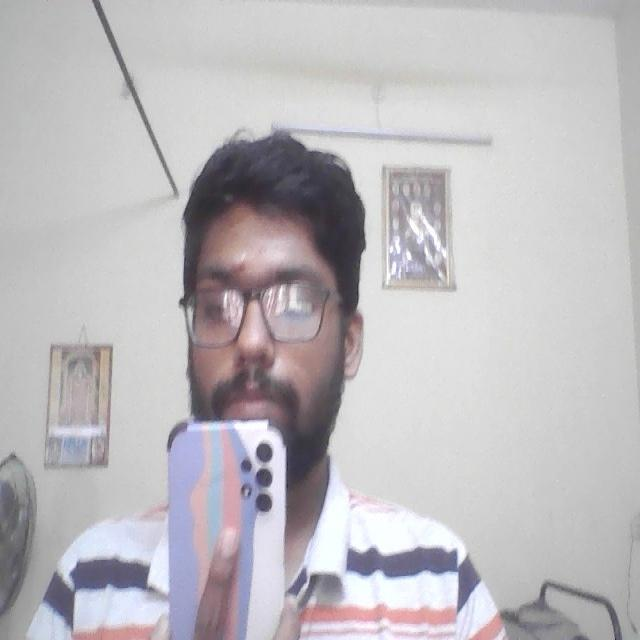Mobile: (160, 413, 292, 640)
